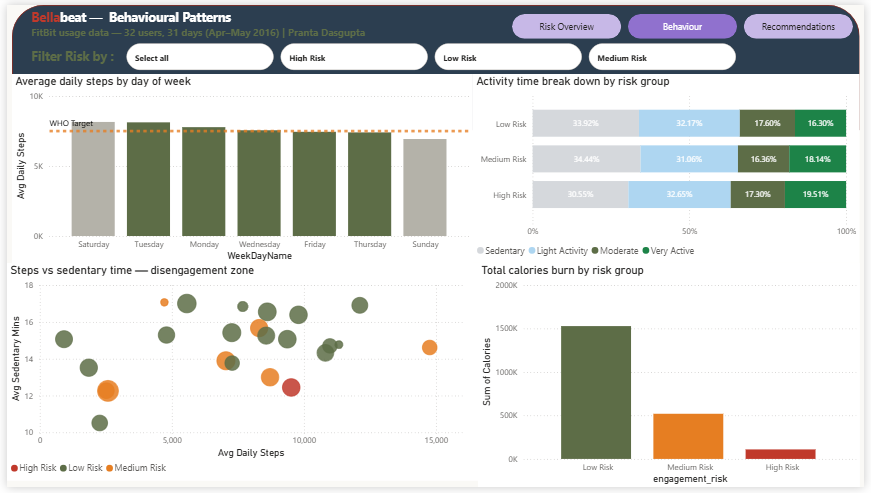

The dashboard page shown, as its layout file describes it:
{"tool":"powerbi","page":{"name":"Behaviour ","canvas":[1280,720],"ordinal":1},"visuals":[{"type":"shape","box":[7.9,0,1265.1,187.3],"z":0},{"type":"textbox","box":[31.3,0,670.1,56.7],"z":1000},{"type":"advancedSlicerVisual","fields":{"Values":["Risk_Score_Table_Final.engagement_risk"]},"box":[172.9,51.8,922.4,50.6],"z":2000},{"type":"textbox","box":[31.8,57.8,141.7,36.1],"z":3000},{"type":"clusteredColumnChart","title":"Average daily steps by day of week","fields":{"Category":["DailyActivityMergedClean.WeekDayName "],"Y":["Risk_Score_Table_Final.Avg Daily Steps"]},"box":[7.2,102.7,688.2,284.8],"z":4000},{"type":"scatterChart","title":"Steps vs sedentary time — disengagement zone","fields":{"Category":["Risk_Score_Table_Final.Id"],"X":["Risk_Score_Table_Final.Avg Daily Steps"],"Series":["Risk_Score_Table_Final.engagement_risk"],"Y":["DailyActivityMergedClean.Avg Sedentary Mins"],"Size":["DailyActivityMergedClean.Avg Sleep Hours"]},"box":[0,384.6,702.7,325.3],"z":5000},{"type":"hundredPercentStackedBarChart","title":"Activity time break down by risk group","fields":{"Category":["Risk_Score_Table_Final.engagement_risk"],"Y":["Sum(DailyActivityMergedClean.SedentaryMinutes)","Sum(DailyActivityMergedClean.LightlyActiveMinutes)","Sum(DailyActivityMergedClean.FairlyActiveMinutes)","Sum(DailyActivityMergedClean.VeryActiveMinutes)"]},"box":[695.4,102.7,576.9,281.9],"z":6000},{"type":"columnChart","title":"Total calories burn by risk group","fields":{"Category":["Risk_Score_Table_Final.engagement_risk"],"Y":["Sum(DailyActivityMergedClean.Calories)"]},"box":[702.7,384.6,569.6,335.4],"z":7000},{"type":"pageNavigator","box":[753.3,13,511.8,37.6],"z":8000}]}

Visuals, with their boxes in screenshot pixels (x1, y1, x2, y2), scaled from the page's 1280x720 canvas onto the 871x493 screenshot:
shape: [left=5, top=0, right=866, bottom=128]
textbox: [left=21, top=0, right=477, bottom=39]
advancedSlicerVisual - Risk_Score_Table_Final.engagement_risk: [left=118, top=35, right=745, bottom=70]
textbox: [left=22, top=40, right=118, bottom=64]
"Average daily steps by day of week" clusteredColumnChart: [left=5, top=70, right=473, bottom=265]
"Steps vs sedentary time — disengagement zone" scatterChart: [left=0, top=263, right=478, bottom=486]
"Activity time break down by risk group" hundredPercentStackedBarChart: [left=473, top=70, right=866, bottom=263]
"Total calories burn by risk group" columnChart: [left=478, top=263, right=866, bottom=492]
pageNavigator: [left=513, top=9, right=861, bottom=35]
